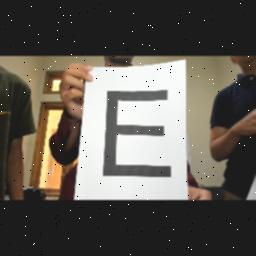e: (99, 86, 181, 186)
